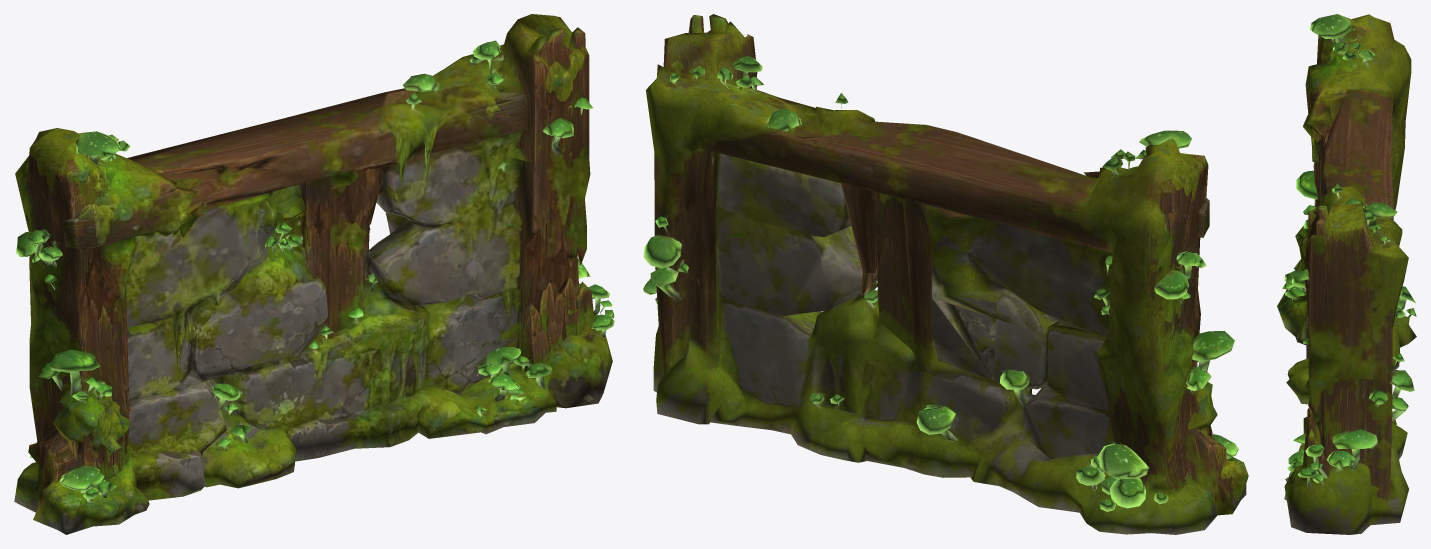
The model's file is dp_m_mur.glb.
The picture shows the model from 3 angles, left to right: view 1: azimuth 30°, elevation 25°; view 2: azimuth 150°, elevation 25°; view 3: azimuth 270°, elevation 25°; orthographic projection. The views are drawn at different scales.
Size of the model in its own units: 0.9531 by 0.583 by 0.2368.
Materials: 1 (1 with a texture image).
